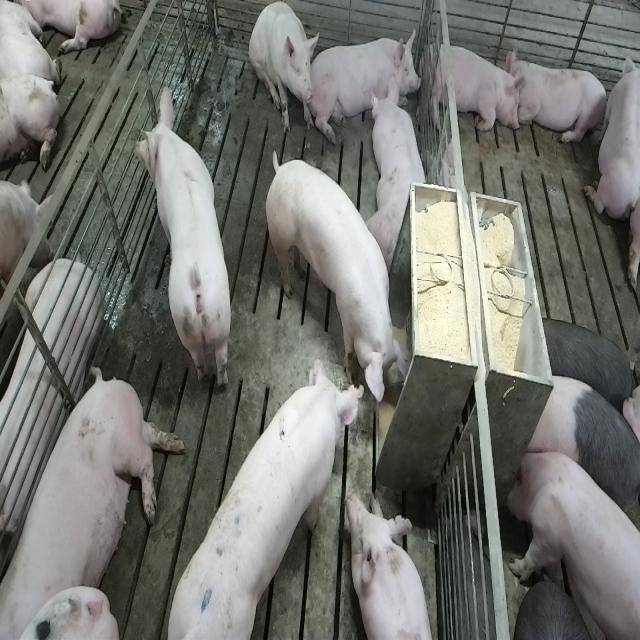Lateral_lying: (4, 362, 188, 636), (0, 258, 103, 544)
Sitting: (249, 3, 318, 137)
Standing: (163, 355, 367, 635), (264, 155, 406, 413), (132, 85, 232, 398), (504, 443, 637, 640), (522, 372, 638, 538), (532, 313, 634, 412)
Sternal_lying: (348, 488, 438, 640), (312, 27, 421, 138), (370, 84, 430, 270), (426, 37, 524, 139), (510, 52, 610, 150), (584, 44, 638, 224)
